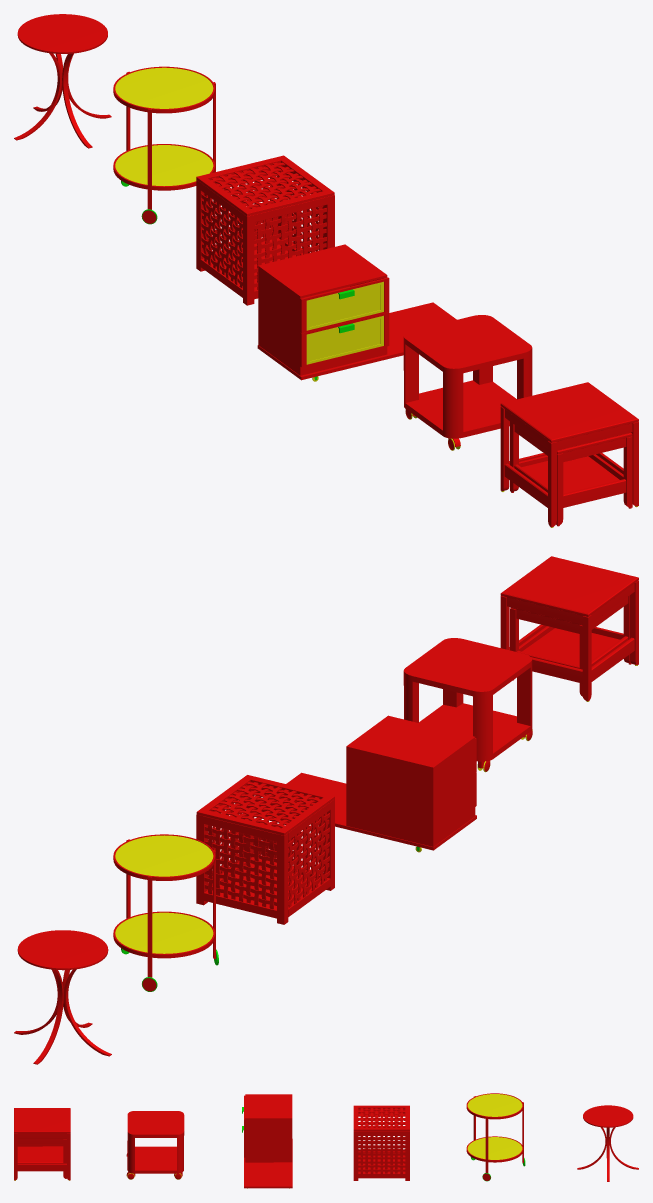
File: thorkea_side_tables_grp.fbx
3 renders of one model, top to bottom at view 1: azimuth 30°, elevation 25°; view 2: azimuth 150°, elevation 25°; view 3: azimuth 270°, elevation 25°, orthographic. The views are drawn at different scales.
Visible parts, largest first — view 1: thorkea_side_table_tingby, thorkea_side_table_hopen, thorkea_side_table_hol, thorkea_side_table_havsta, thorkea_side_table_strind, thorkea_side_table_nested_havsta, thorkea_side_table_lid_hol, thorkea_side_table_fornbro, thorkea_side_table_drawer_1_hopen, thorkea_side_table_drawer_2_hopen; view 2: thorkea_side_table_hopen, thorkea_side_table_hol, thorkea_side_table_tingby, thorkea_side_table_havsta, thorkea_side_table_strind, thorkea_side_table_lid_hol, thorkea_side_table_fornbro, thorkea_side_table_nested_havsta; view 3: thorkea_side_table_hopen, thorkea_side_table_tingby, thorkea_side_table_hol, thorkea_side_table_strind, thorkea_side_table_havsta, thorkea_side_table_lid_hol, thorkea_side_table_fornbro, thorkea_side_table_nested_havsta.
Boxes of the visible parts, bbox=[...] form: thorkea_side_table_tingby: bbox=[403, 315, 532, 450]; thorkea_side_table_hopen: bbox=[257, 244, 456, 381]; thorkea_side_table_hol: bbox=[196, 165, 334, 305]; thorkea_side_table_havsta: bbox=[500, 382, 638, 527]; thorkea_side_table_strind: bbox=[113, 66, 215, 224]; thorkea_side_table_nested_havsta: bbox=[510, 421, 632, 526]; thorkea_side_table_lid_hol: bbox=[196, 155, 334, 216]; thorkea_side_table_fornbro: bbox=[14, 14, 111, 148]; thorkea_side_table_drawer_1_hopen: bbox=[300, 277, 389, 333]; thorkea_side_table_drawer_2_hopen: bbox=[300, 312, 389, 367]; thorkea_side_table_hopen: bbox=[262, 715, 476, 852]; thorkea_side_table_hol: bbox=[196, 784, 334, 924]; thorkea_side_table_tingby: bbox=[403, 638, 532, 772]; thorkea_side_table_havsta: bbox=[500, 556, 638, 701]; thorkea_side_table_strind: bbox=[113, 834, 218, 991]; thorkea_side_table_lid_hol: bbox=[196, 775, 334, 835]; thorkea_side_table_fornbro: bbox=[14, 930, 111, 1064]; thorkea_side_table_nested_havsta: bbox=[510, 595, 631, 696]; thorkea_side_table_hopen: bbox=[244, 1094, 292, 1188]; thorkea_side_table_tingby: bbox=[126, 1111, 184, 1179]; thorkea_side_table_hol: bbox=[353, 1109, 409, 1180]; thorkea_side_table_strind: bbox=[466, 1093, 525, 1181]; thorkea_side_table_havsta: bbox=[14, 1108, 70, 1180]; thorkea_side_table_lid_hol: bbox=[353, 1105, 409, 1130]; thorkea_side_table_fornbro: bbox=[577, 1105, 638, 1181]; thorkea_side_table_nested_havsta: bbox=[17, 1138, 66, 1178].
Bounding box in the file's own units: 100 × 62.1 × 552.
